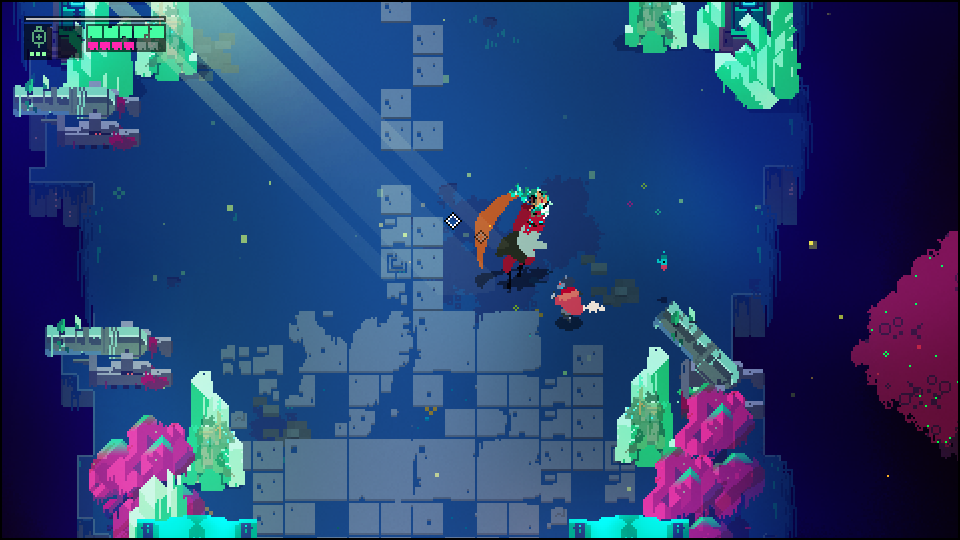hanged_man: (468, 181, 548, 288)
player: (551, 279, 590, 334)
